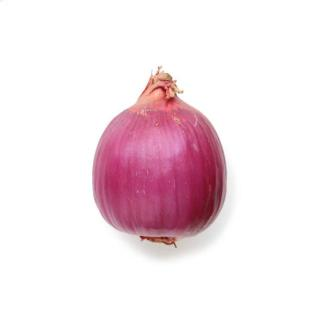Bawang Merah: (91, 64, 230, 249)
